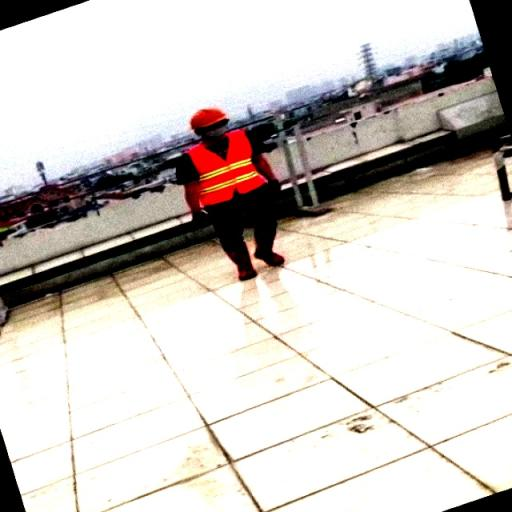Person: (150, 75, 324, 294)
boots: (249, 218, 309, 273), (212, 236, 263, 284)
gloves: (180, 201, 214, 240), (262, 172, 293, 200)
goggles: (179, 122, 241, 140)
helmet: (183, 93, 233, 131)
vest: (183, 136, 277, 207)
